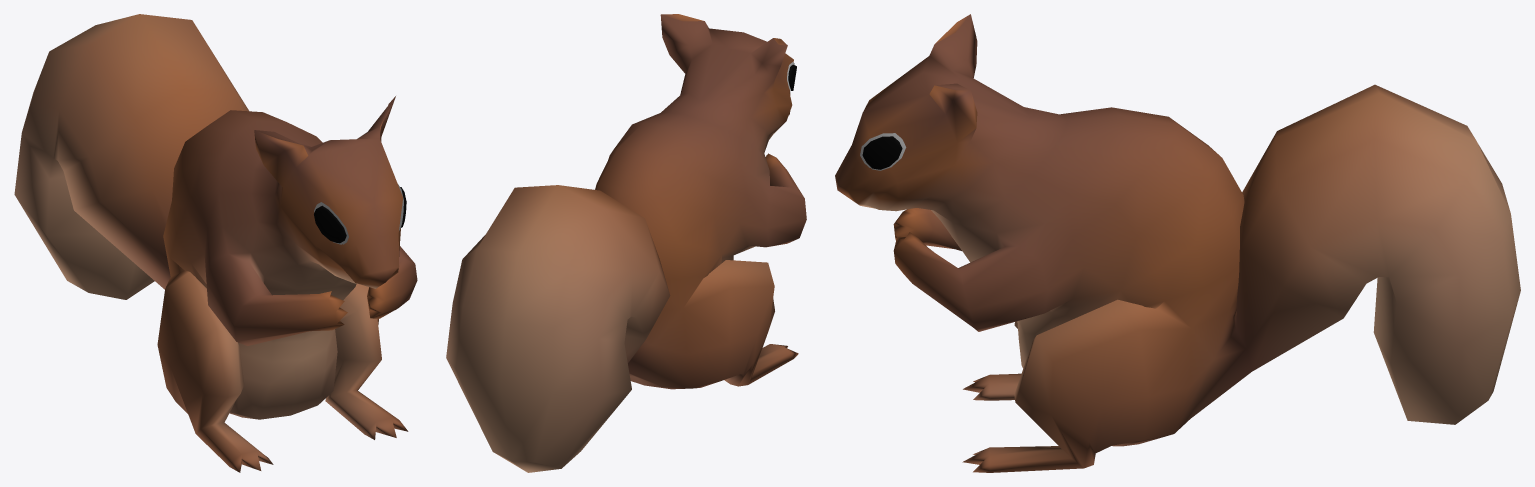
The model's file is animals-animals-redsquirrel_v2.glb.
The picture shows the model from 3 angles, left to right: view 1: azimuth 30°, elevation 25°; view 2: azimuth 150°, elevation 25°; view 3: azimuth 270°, elevation 25°; orthographic projection. The views are drawn at different scales.
Visible parts, largest first — view 1: RedSquirrel_v2; view 2: RedSquirrel_v2; view 3: RedSquirrel_v2.
Part boxes in pixels (x1,y1,x2,y2): RedSquirrel_v2: (14, 14, 417, 472); RedSquirrel_v2: (446, 14, 806, 472); RedSquirrel_v2: (835, 14, 1520, 472).
Size of the model in its own units: 0.1045 by 0.1772 by 0.2936.
